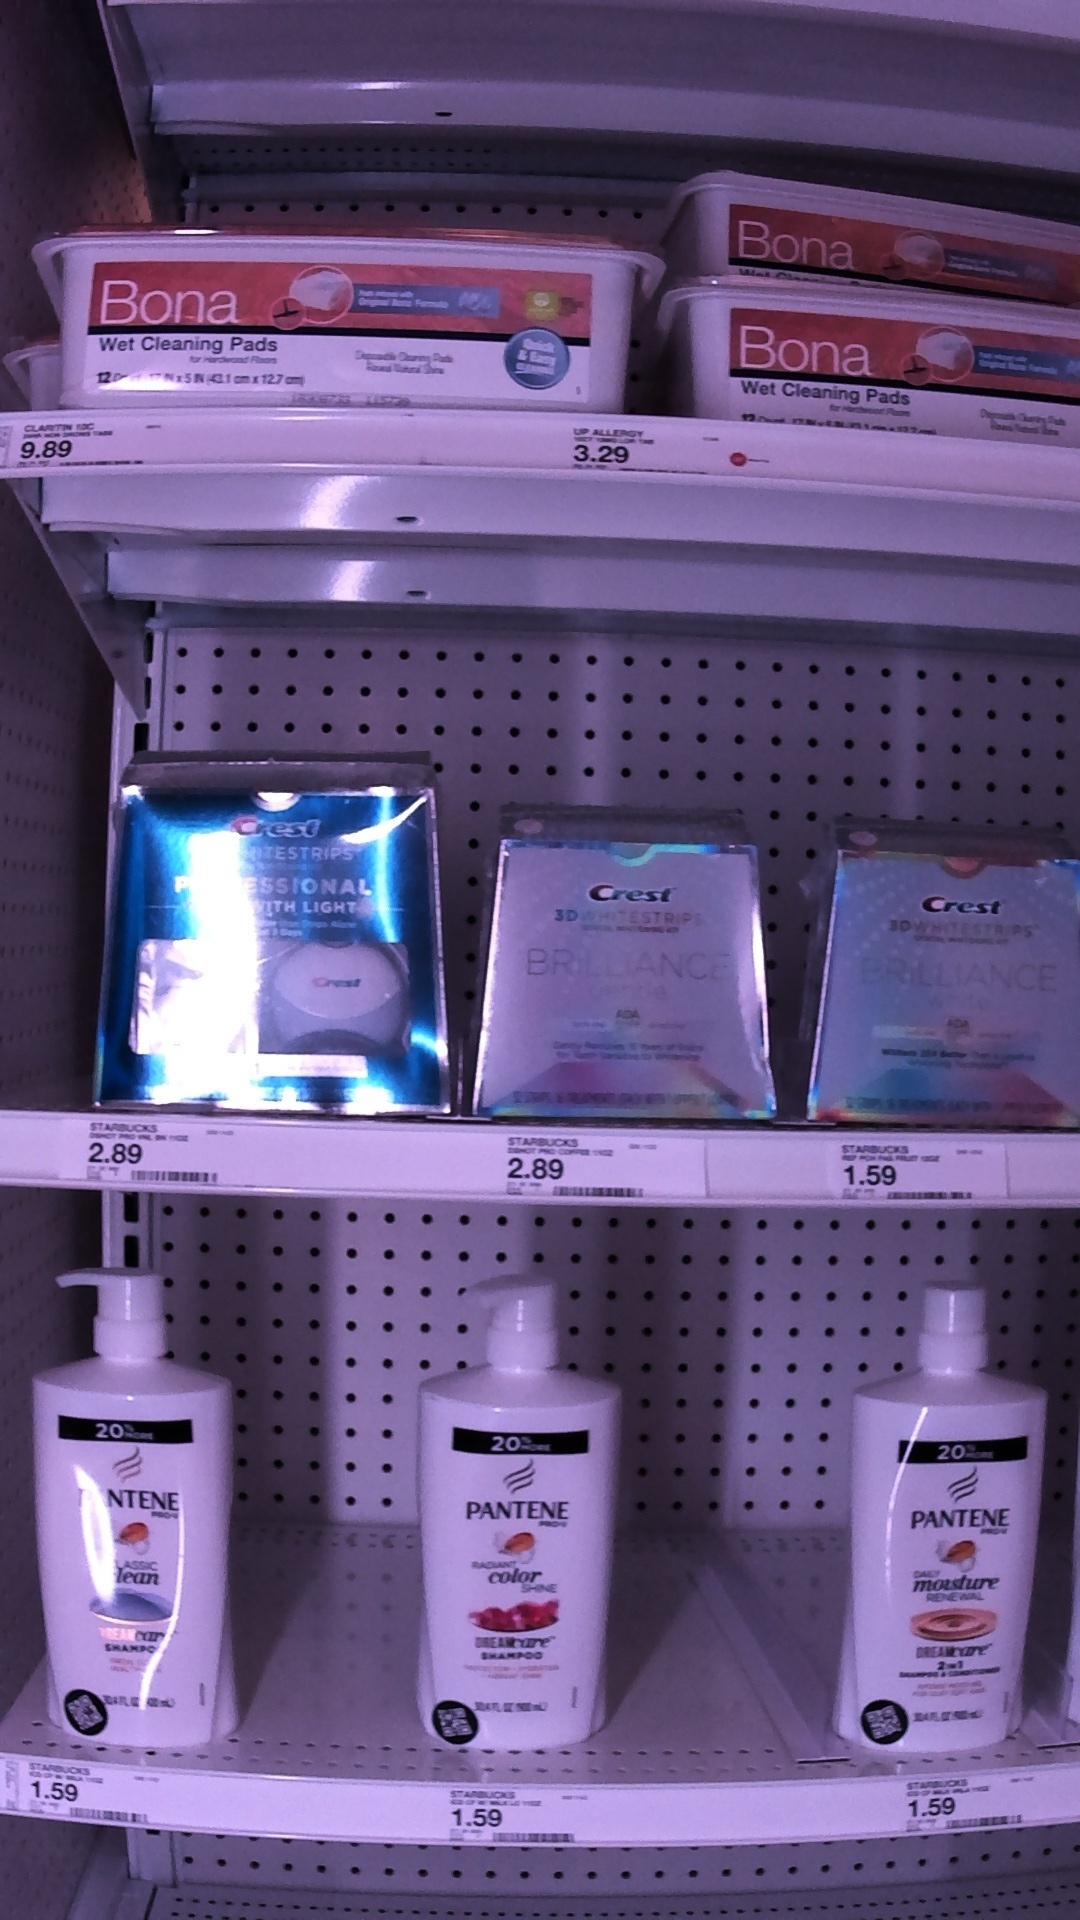ptag: (82, 1109, 258, 1204), (562, 409, 769, 484), (495, 1129, 673, 1203), (24, 1749, 173, 1836), (829, 1133, 982, 1203), (444, 1780, 591, 1849), (18, 409, 146, 483), (899, 1768, 1038, 1836)
